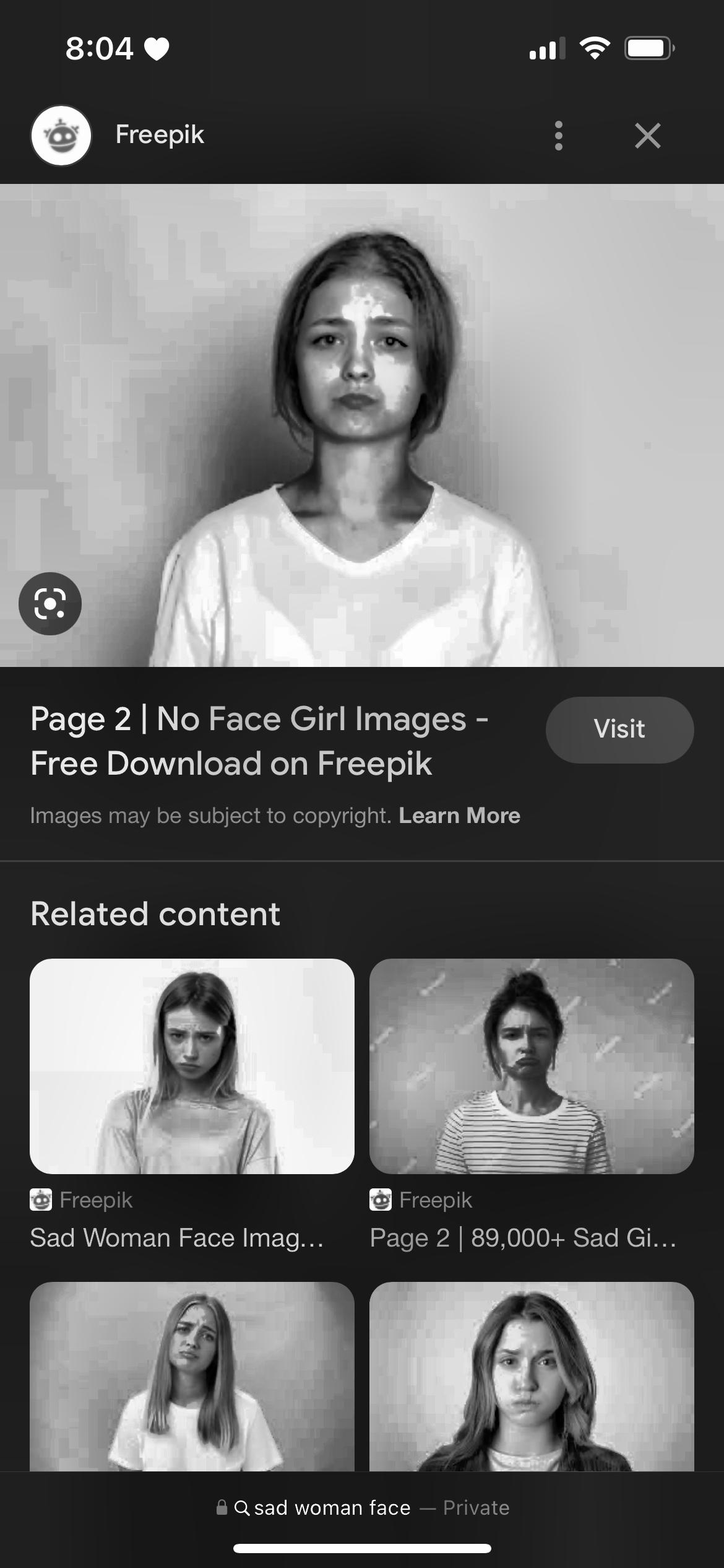sad: (297, 271, 439, 446)
